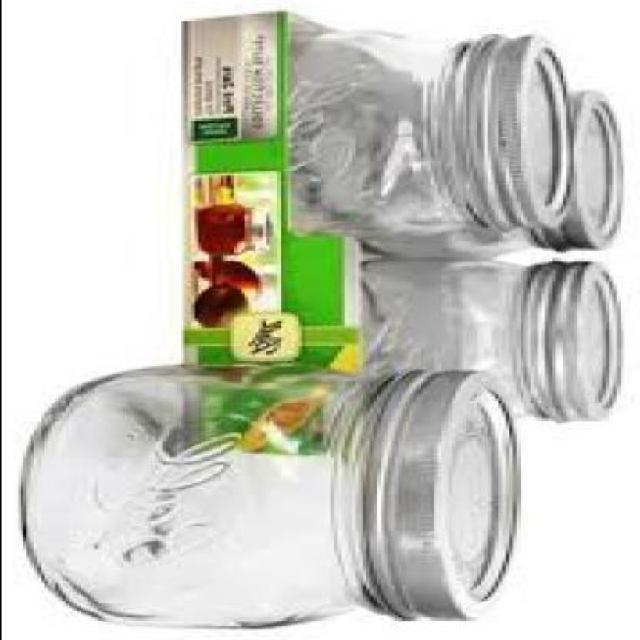CARDBOARD: (190, 235, 358, 458), (185, 14, 293, 237)
GLASS: (22, 367, 386, 628), (290, 32, 493, 237), (358, 258, 539, 420), (362, 232, 543, 260)
METAL: (372, 376, 519, 619), (450, 37, 576, 237), (522, 265, 626, 426), (536, 96, 622, 253)
